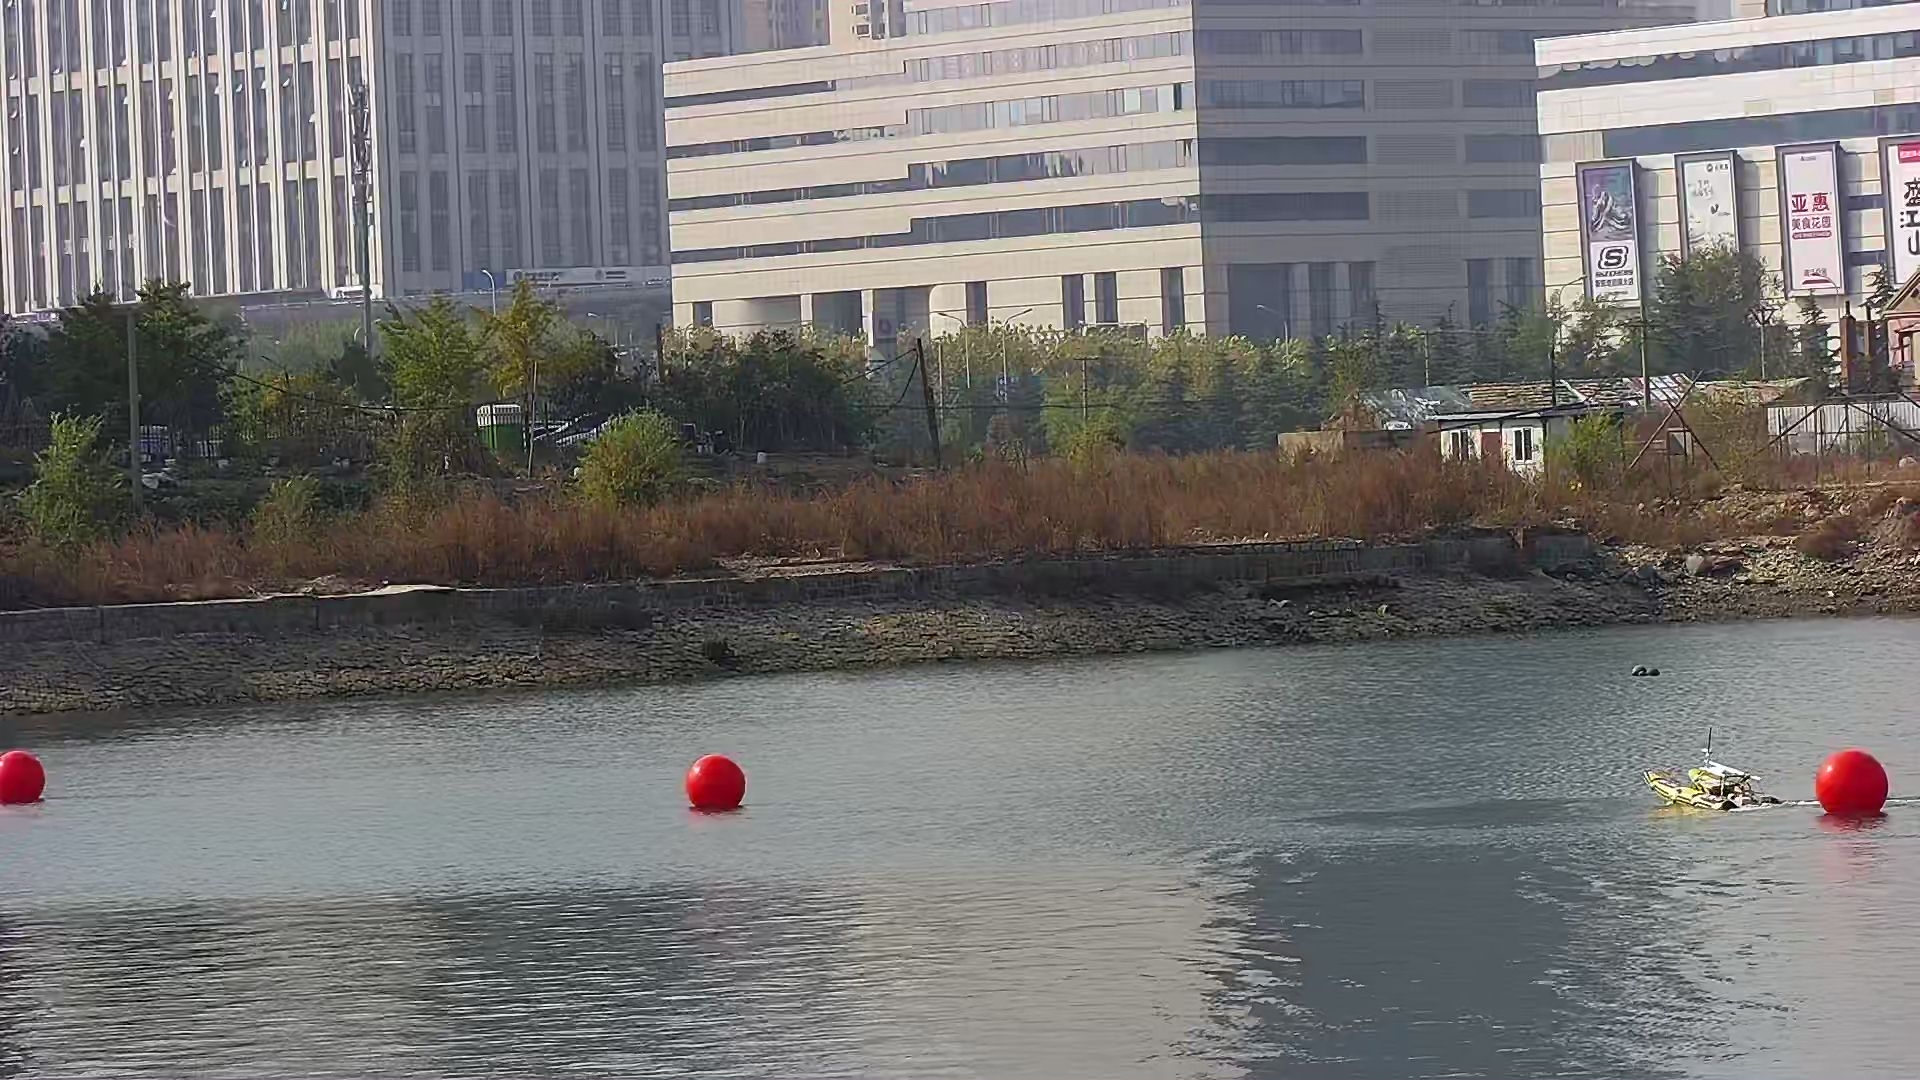ball: (1812, 745, 1890, 822), (680, 756, 750, 814), (1, 746, 47, 803)
boat: (1635, 756, 1774, 822)
rubbish: (1626, 663, 1663, 680)
